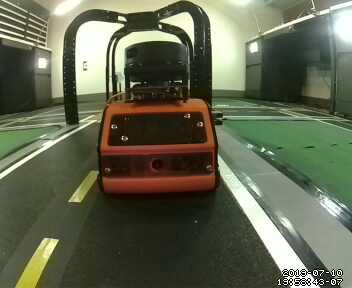pheeno: (99, 43, 223, 200)
